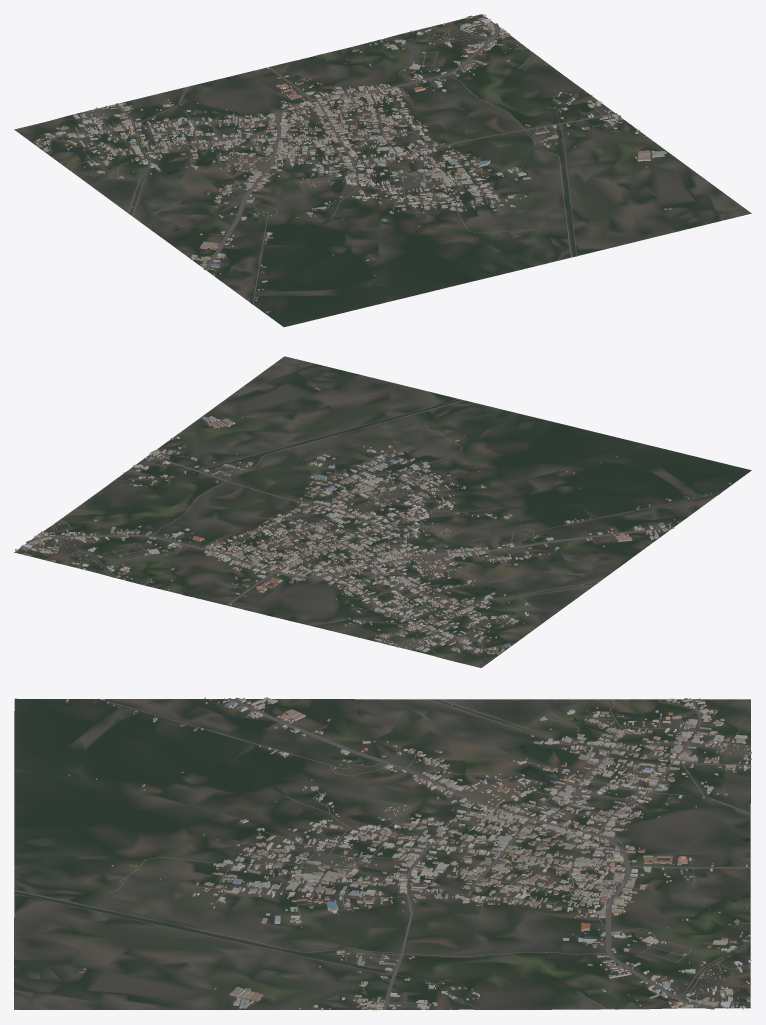
3 views of the same model, one above another, from view 1: azimuth 30°, elevation 25°; view 2: azimuth 150°, elevation 25°; view 3: azimuth 270°, elevation 25° (orthographic). The views are drawn at different scales.
Parts seen in each view (by area): view 1: ground, buildings, roads, water; view 2: ground, buildings, roads, water; view 3: ground, buildings, roads, water.
Boxes of the visible parts, <box> form: ground: <box>14,14,751,327</box>; buildings: <box>33,14,671,312</box>; roads: <box>35,16,618,304</box>; water: <box>107,37,575,256</box>; ground: <box>14,356,751,667</box>; buildings: <box>15,387,730,654</box>; roads: <box>22,399,720,652</box>; water: <box>53,399,549,616</box>; ground: <box>14,698,750,1009</box>; buildings: <box>66,697,751,1010</box>; roads: <box>14,698,750,1009</box>; water: <box>14,717,750,1008</box>.
Size of the model in its own units: 2821 by 20.49 by 2807.
